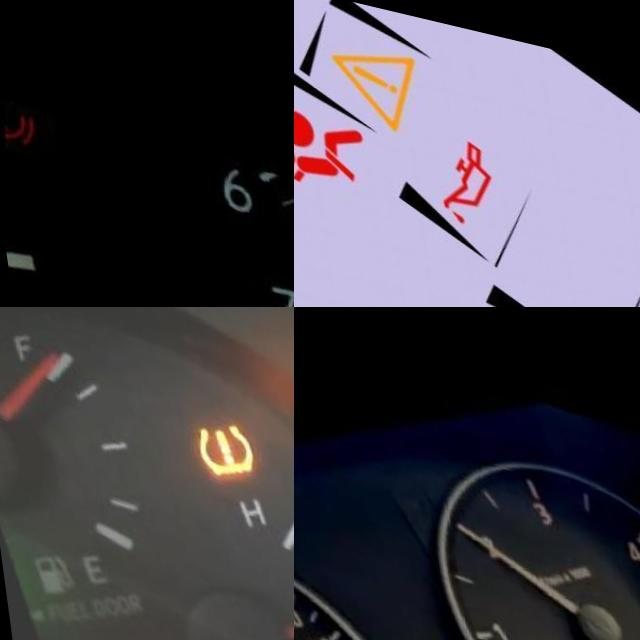Low fuel level: (11, 533, 81, 613)
